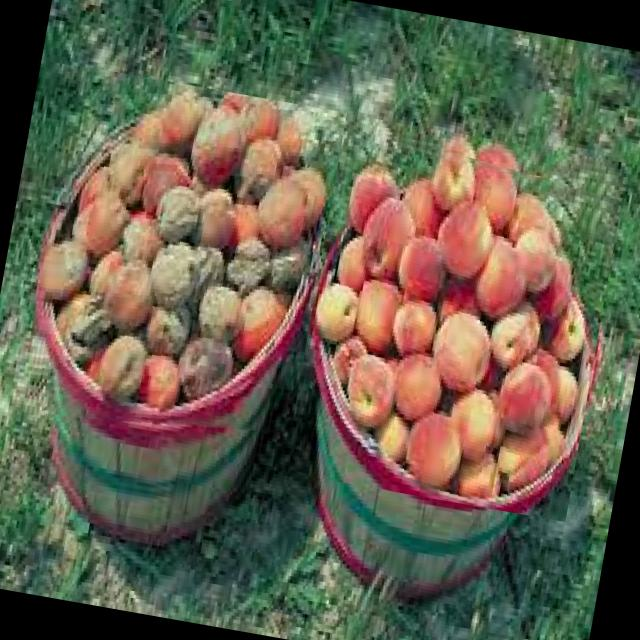Organic: (290, 124, 626, 522), (24, 66, 346, 459)
